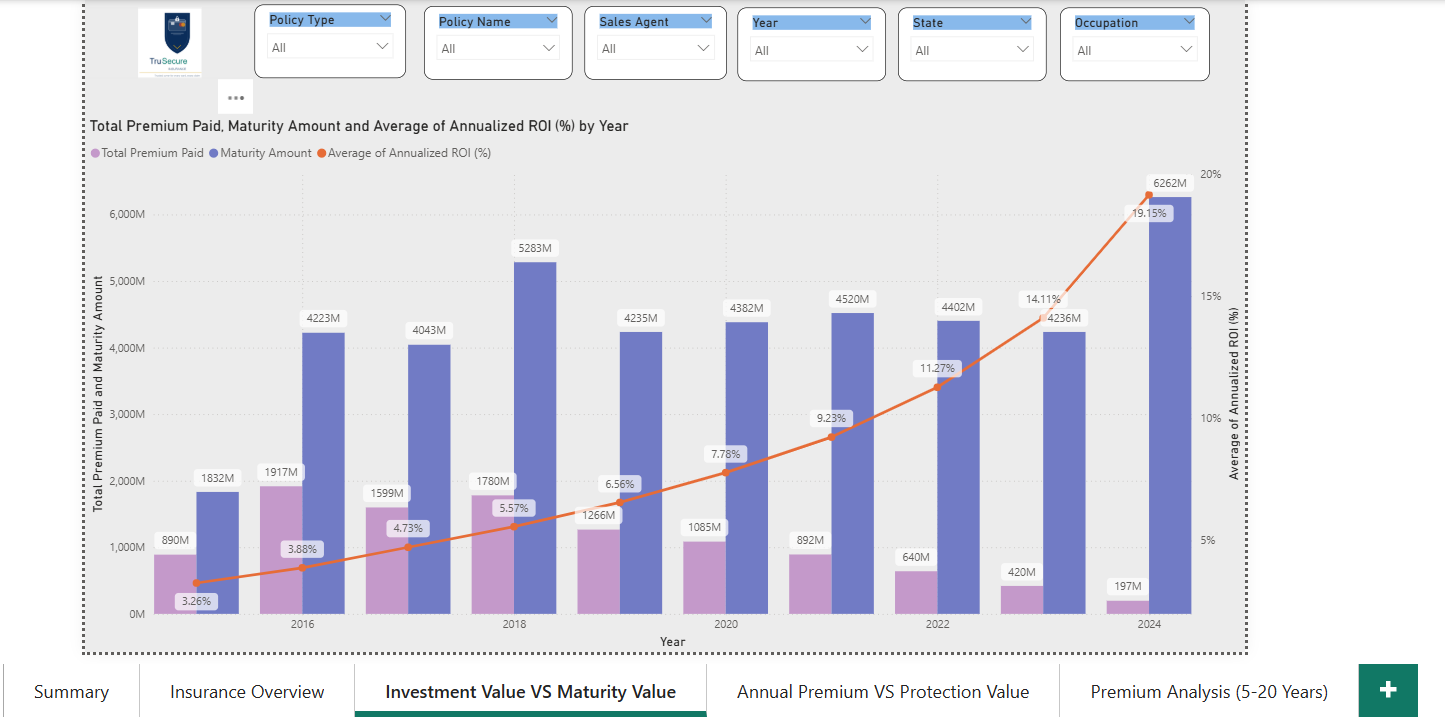

What the dashboard file says about the page in this screenshot:
{"tool":"powerbi","page":{"name":"Investment Value VS Maturity Value","canvas":[1280,720],"ordinal":2},"visuals":[{"type":"image","box":[0,8.3,187.2,77.9],"z":0},{"type":"slicer","fields":{"Values":["DM Policy_Type.Policy Type"]},"box":[187.2,5,167.3,81.2],"z":1000},{"type":"slicer","fields":{"Values":["DM Policy_Protection_Plan.Policy Name"]},"box":[374.4,6.6,164,81.2],"z":2000},{"type":"slicer","fields":{"Values":["DM Insurance_Agent_Table.Sales Agent"]},"box":[551.6,6.6,157.4,81.2],"z":3000},{"type":"slicer","fields":{"Values":["FCT Insurance_Policy_Table.Start Date.Variation.Date Hierarchy.Year"]},"box":[720.6,8.3,164,81.2],"z":4000},{"type":"slicer","fields":{"Values":["DM Customer_Detail_Table.State"]},"box":[897.8,8.3,164,81.2],"z":5000},{"type":"slicer","fields":{"Values":["DM Customer_Detail_Table.Occupation"]},"box":[1076.7,8.3,165.6,81.2],"z":6000},{"type":"lineClusteredColumnComboChart","fields":{"Category":["FCT Insurance_Policy_Table.Start Date.Variation.Date Hierarchy.Year","FCT Insurance_Policy_Table.Start Date.Variation.Date Hierarchy.Quarter","FCT Insurance_Policy_Table.Start Date.Variation.Date Hierarchy.Month","FCT Insurance_Policy_Table.Start Date.Variation.Date Hierarchy.Day"],"Y":["Sum(FCT Insurance_Policy_Table.Total Premium Paid)","Sum(FCT Insurance_Policy_Table.Maturity Amount)"],"Y2":["Avg(FCT Insurance_Policy_Table.Annualized ROI (%))"]},"box":[0,129.2,1280.5,591.4],"z":7000}]}

Visuals, with their boxes on the page's 1280x720 design canvas (x1, y1, x2, y2). These are canvas units, not pixel positions in the 1445x717 screenshot, which may show the page scaled, cropped or inside an application window:
image: box(0, 8, 187, 86)
slicer - DM Policy_Type.Policy Type: box(187, 5, 354, 86)
slicer - DM Policy_Protection_Plan.Policy Name: box(374, 7, 538, 88)
slicer - DM Insurance_Agent_Table.Sales Agent: box(552, 7, 709, 88)
slicer - FCT Insurance_Policy_Table.Start Date.Variation.Date Hierarchy.Year: box(721, 8, 885, 90)
slicer - DM Customer_Detail_Table.State: box(898, 8, 1062, 90)
slicer - DM Customer_Detail_Table.Occupation: box(1077, 8, 1242, 90)
lineClusteredColumnComboChart - FCT Insurance_Policy_Table.Start Date.Variation.Date Hierarchy.Year x FCT Insurance_Policy_Table.Start Date.Variation.Date Hierarchy.Quarter: box(0, 129, 1280, 721)
